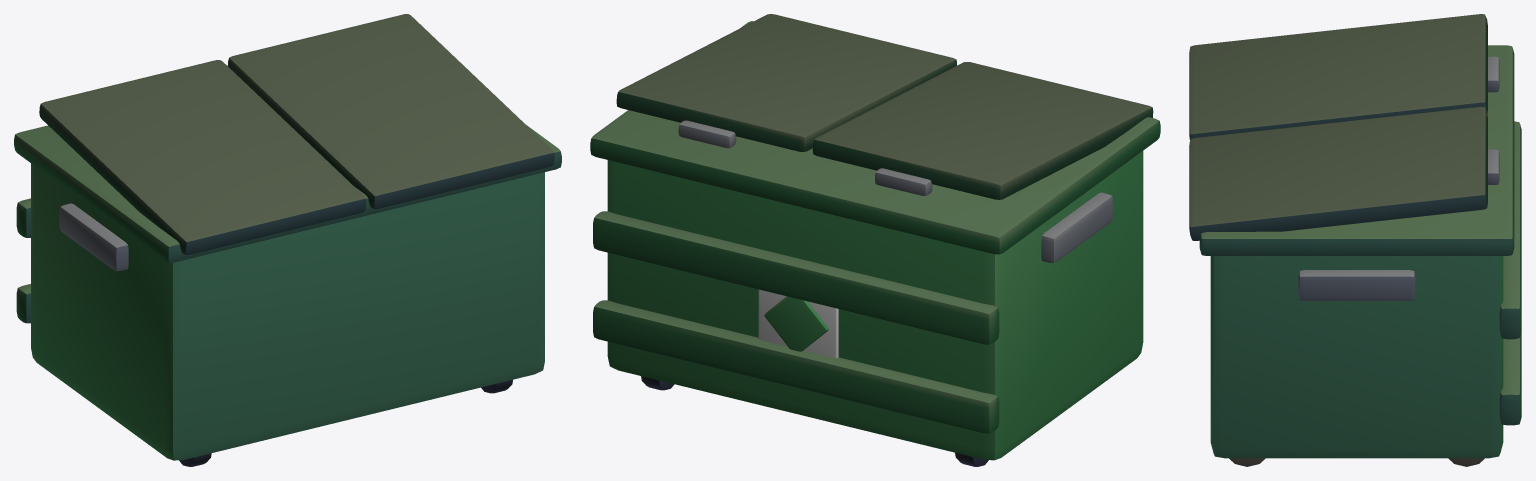
File: Dumpster.fbx
The picture shows the model from 3 angles, left to right: view 1: azimuth 30°, elevation 25°; view 2: azimuth 150°, elevation 25°; view 3: azimuth 270°, elevation 25°; orthographic projection. The views are drawn at different scales.
Parts seen in each view (by area): view 1: SM_Station_Dumpster; view 2: SM_Station_Dumpster; view 3: SM_Station_Dumpster.
Boxes of the visible parts, <box> form: SM_Station_Dumpster: <box>14,14,561,466</box>; SM_Station_Dumpster: <box>590,14,1160,466</box>; SM_Station_Dumpster: <box>1189,14,1521,466</box>.
Bounding box in the file's own units: 6.4 × 4.31 × 4.54.
